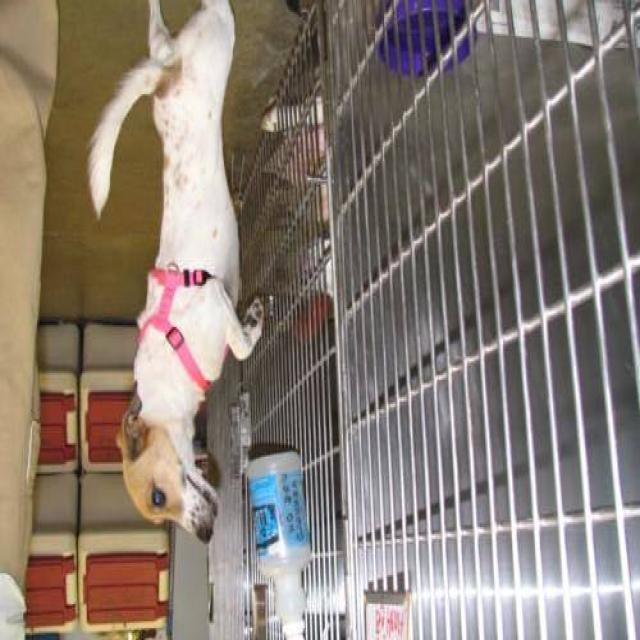dog: (80, 0, 280, 558)
